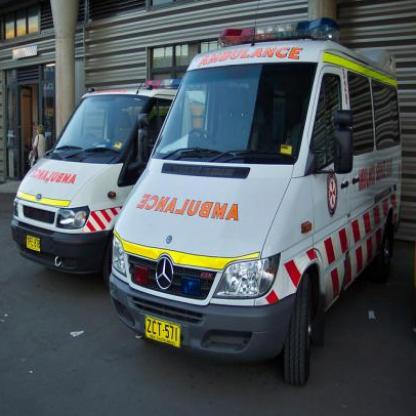truck: (110, 17, 399, 387)
